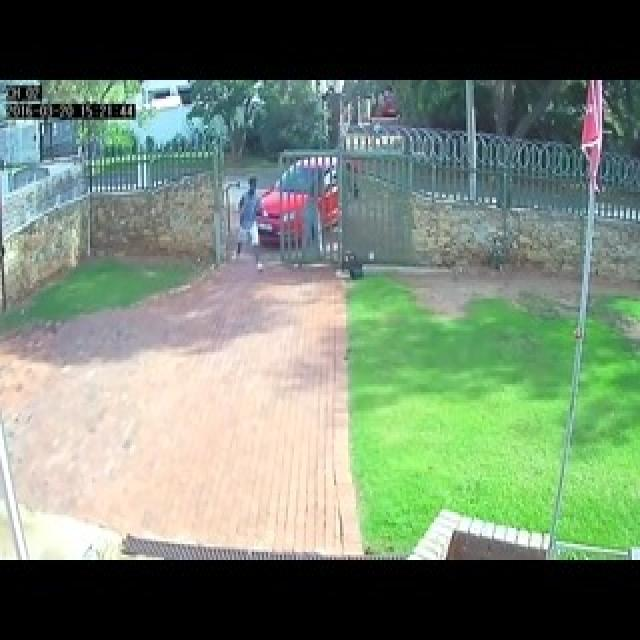thief: (233, 162, 274, 277), (300, 153, 325, 265)
